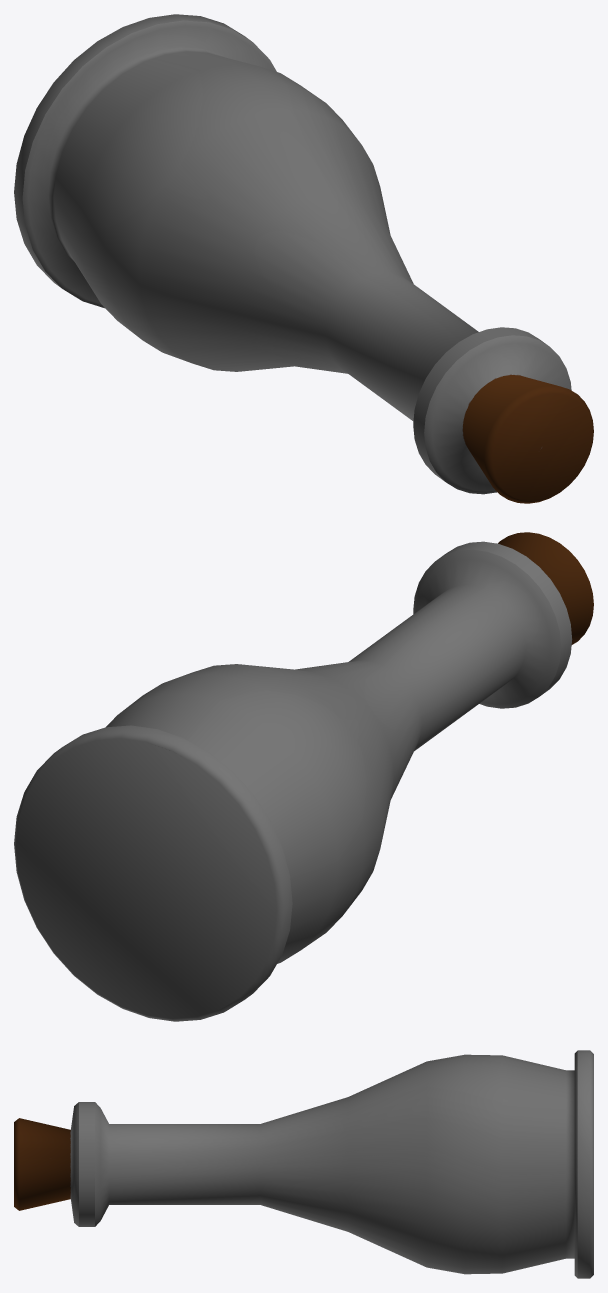
Rendered from Coletaveis.fbx.
3 renders of one model, top to bottom at view 1: azimuth 30°, elevation 25°; view 2: azimuth 150°, elevation 25°; view 3: azimuth 270°, elevation 25°, orthographic. The views are drawn at different scales.
Visible parts, largest first — view 1: Garrafa; view 2: Garrafa; view 3: Garrafa.
Part boxes in pixels (left/top/right/bottom): Garrafa: left=14, top=14, right=593, bottom=503; Garrafa: left=14, top=532, right=593, bottom=1021; Garrafa: left=14, top=1050, right=593, bottom=1278.
Size of the model in its own units: 242 by 242 by 615.
Materials: 1 (1 with a texture image).
